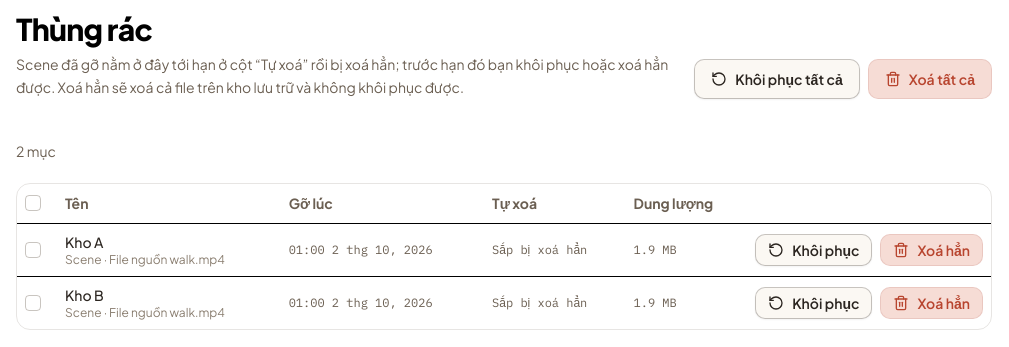
Scenario: TrashPage › khôi phục một mục gửi đúng ID và mục đó rời danh sách
Click the button with aria-label "Khôi phục Kho A" at [814, 250], box [755,234,872,266]
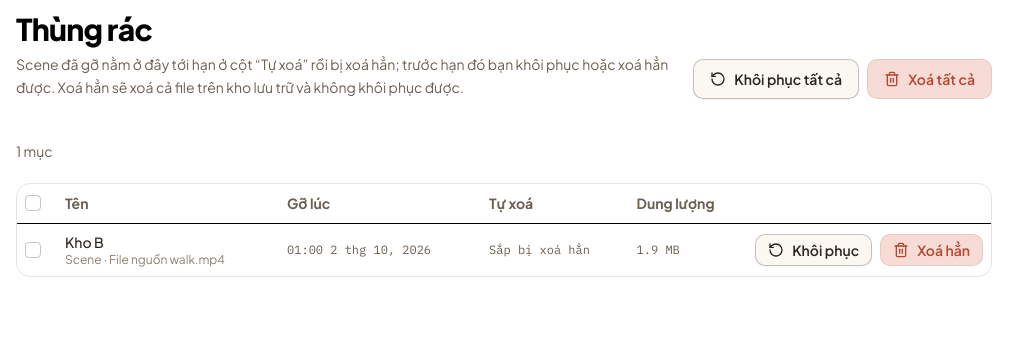
Expected: the text "Kho B" is shown, [65,233,104,251]
Expected: the text "Kho A" is gone
